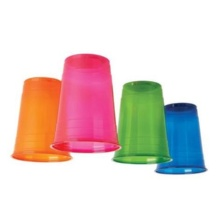glass: (48, 48, 122, 157), (106, 75, 178, 168), (6, 75, 75, 169), (151, 93, 209, 181)
